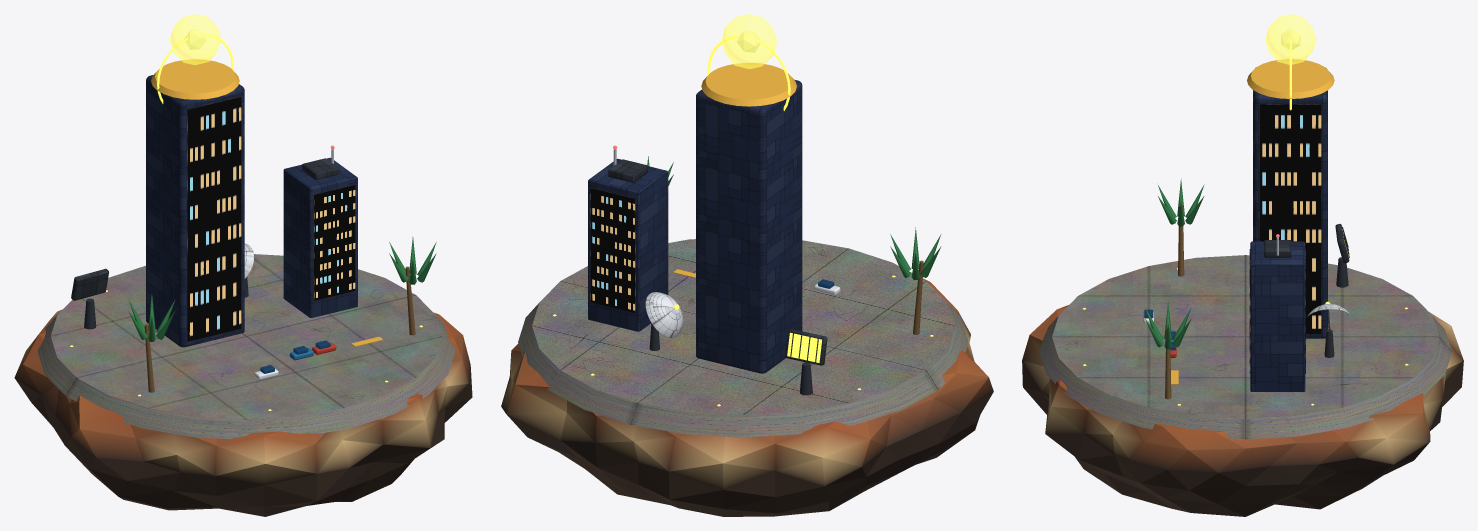
The picture shows the model from 3 angles, left to right: view 1: azimuth 30°, elevation 25°; view 2: azimuth 150°, elevation 25°; view 3: azimuth 270°, elevation 25°; orthographic projection. The views are drawn at different scales.
Parts seen in each view (by area): view 1: object 2, object 1, object 13, object 12, object 20, object 21, object 15, object 30, anim:rot, object 23; view 2: object 2, object 1, object 12, object 20, object 22, object 15, anim:rot (×2), object 30, object 23; view 3: object 2, object 1, object 14, object 20, object 12, object 15, object 30.
Boxes of the visible parts, x1,y1,x2,y2 form: object 2: (37,254,455,439); object 1: (14,309,472,516); object 13: (187,96,241,341); object 12: (146,75,244,347); object 20: (283,157,357,317); object 21: (314,184,355,300); object 15: (151,59,239,99); object 30: (169,14,221,64); anim:rot: (71,268,108,300); object 23: (302,158,339,179); object 2: (518,239,968,437); object 1: (501,272,993,516); object 12: (696,79,802,373); object 20: (588,159,668,331); object 22: (590,188,635,312); object 15: (701,63,796,106); anim:rot (×2): (645,292,827,365); object 30: (721,14,777,69); object 23: (608,159,647,182); object 2: (1039,255,1451,439); object 1: (1022,305,1463,516); object 14: (1260,104,1321,333); object 20: (1250,241,1305,391); object 12: (1253,67,1327,338); object 15: (1247,59,1334,98); object 30: (1265,14,1316,64).
Bounding box in the file's own units: 6.87 × 7.25 × 6.85.
Materials: 21 (6 with a texture image).
